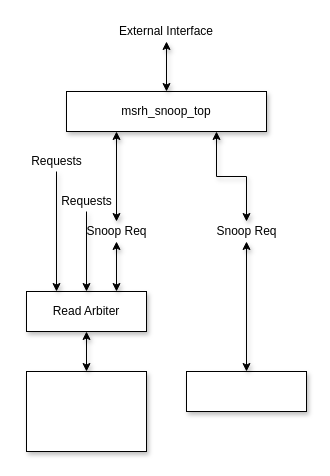
Image size: 330x476. Some labels were removed from this diagram. Each missing label, with the centre of its shape:
L1D: point 87,412
STQ: point 247,392
